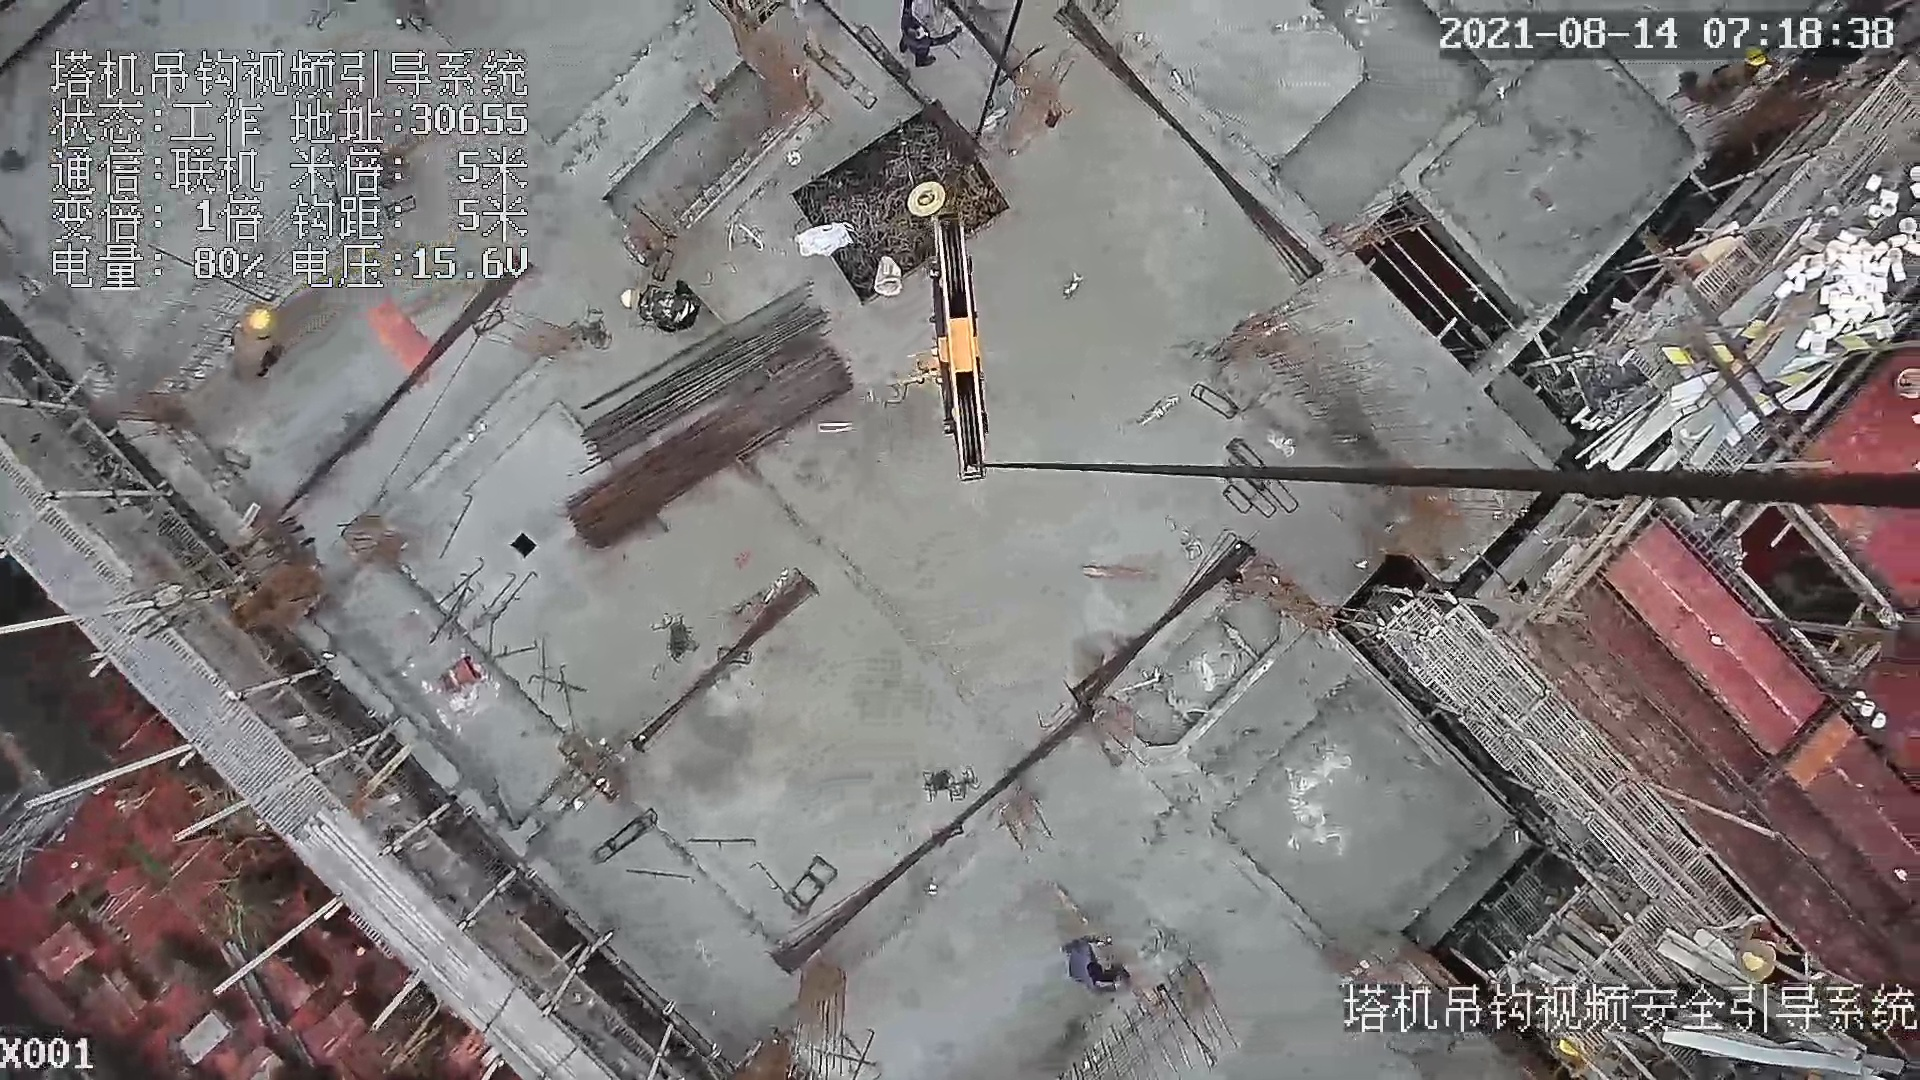helmet: (249, 305, 269, 328)
hook: (904, 212, 1001, 486)
person: (1051, 928, 1132, 996), (232, 312, 281, 383)
